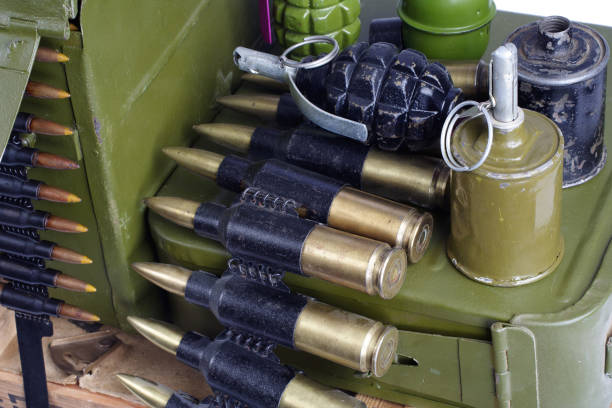e1: (222, 36, 457, 147)
